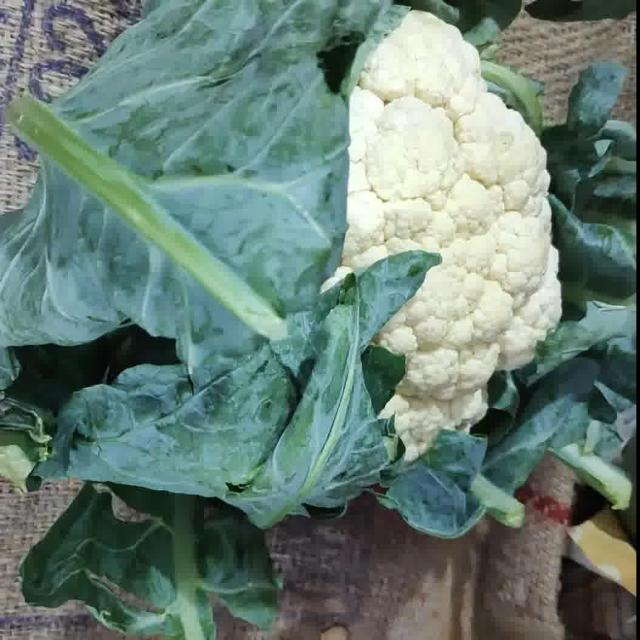Cauliflower: (324, 11, 560, 460)
